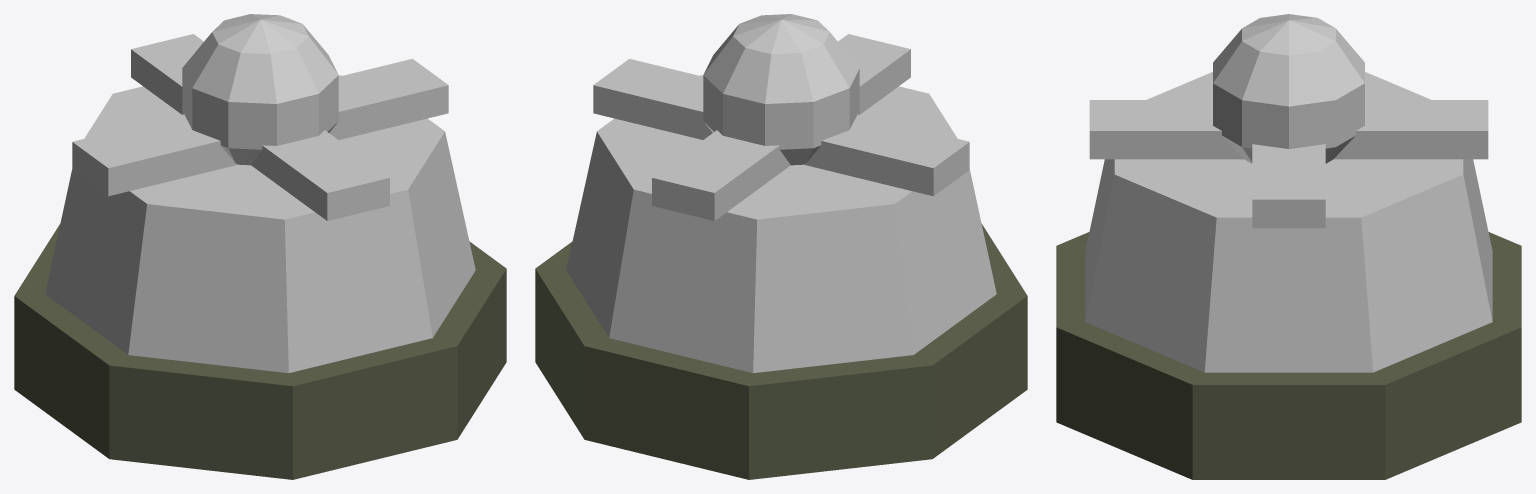
File: mech_pylon.obj
3 renders of one model, left to right at view 1: azimuth 30°, elevation 25°; view 2: azimuth 150°, elevation 25°; view 3: azimuth 270°, elevation 25°, orthographic.
Visible parts, largest first — view 1: mech_pylon_1, mech_pylon_0, mech_pylon_4, mech_pylon_2, mech_pylon_3; view 2: mech_pylon_1, mech_pylon_0, mech_pylon_4, mech_pylon_2, mech_pylon_3; view 3: mech_pylon_1, mech_pylon_0, mech_pylon_4, mech_pylon_3, mech_pylon_2.
Part boxes in pixels (x1,y1,x2,y2): mech_pylon_1: [45, 75, 475, 373]; mech_pylon_0: [14, 223, 506, 479]; mech_pylon_4: [182, 14, 338, 165]; mech_pylon_2: [72, 58, 448, 196]; mech_pylon_3: [131, 34, 389, 220]; mech_pylon_1: [566, 75, 996, 373]; mech_pylon_0: [535, 223, 1027, 479]; mech_pylon_4: [703, 14, 859, 165]; mech_pylon_2: [593, 58, 969, 196]; mech_pylon_3: [652, 34, 910, 220]; mech_pylon_1: [1085, 72, 1492, 372]; mech_pylon_0: [1056, 232, 1521, 479]; mech_pylon_4: [1213, 14, 1364, 163]; mech_pylon_3: [1089, 100, 1488, 159]; mech_pylon_2: [1252, 144, 1325, 228].
Bounding box in the file's own units: 0.887 × 0.76 × 0.887.
